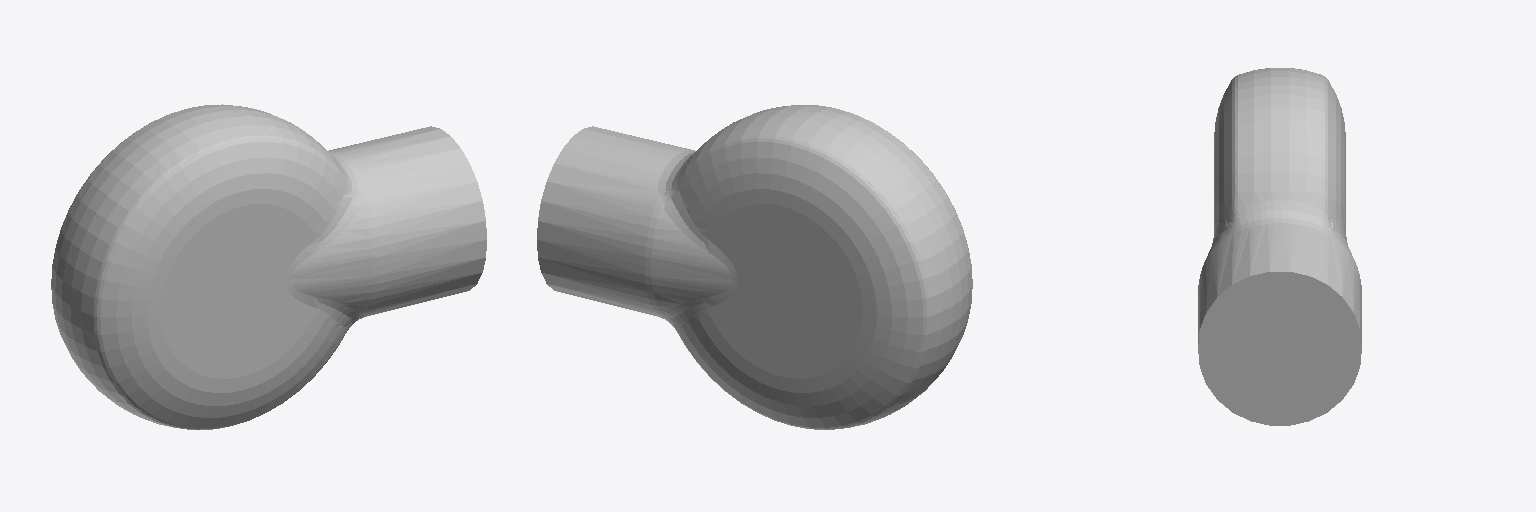
File: arm_6-wrist-2017.obj
3 views of the same model, side by side, from view 1: azimuth 30°, elevation 25°; view 2: azimuth 150°, elevation 25°; view 3: azimuth 270°, elevation 25° (orthographic).
Parts seen in each view (by area): view 1: arm_6-wrist-2017; view 2: arm_6-wrist-2017; view 3: arm_6-wrist-2017.
Boxes of the visible parts, x1,y1,x2,y2 form: arm_6-wrist-2017: [51, 104, 486, 429]; arm_6-wrist-2017: [537, 105, 972, 429]; arm_6-wrist-2017: [1198, 68, 1361, 425].
Size of the model in its own units: 0.1096 by 0.0828 by 0.041.